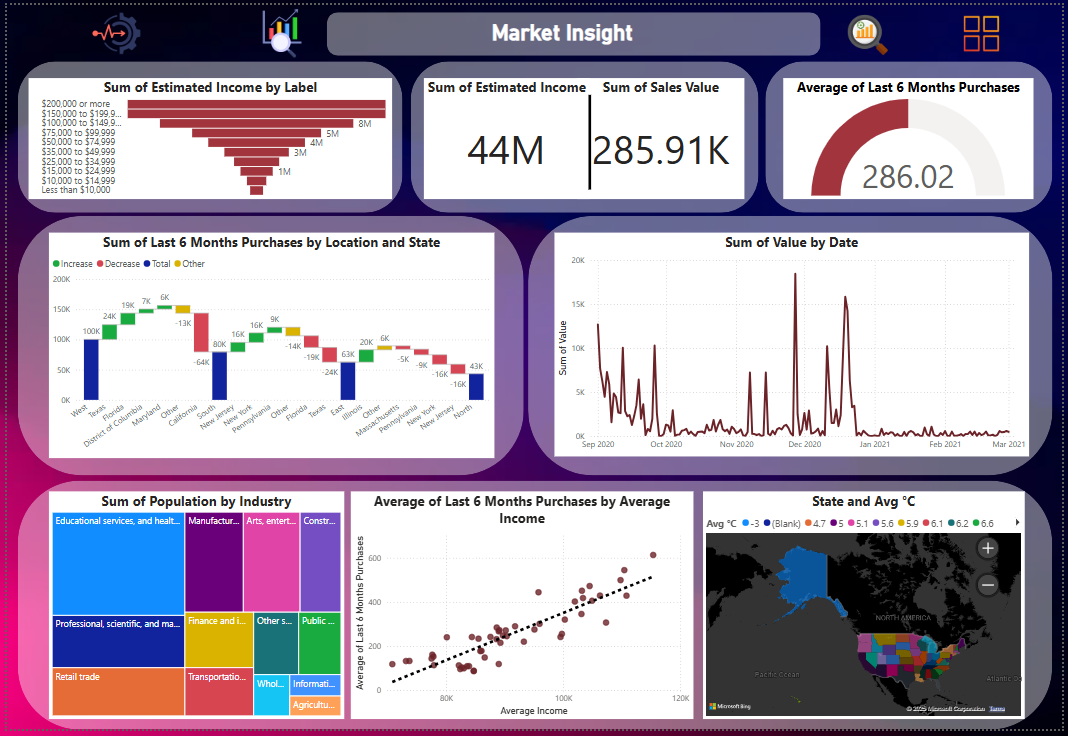

Layout of this report page (visuals, bound fields, positions):
{"tool":"powerbi","page":{"name":"Market Insight","canvas":[1600,1100],"ordinal":0},"visuals":[{"type":"shape","box":[16,722,1570,378],"z":0},{"type":"shape","box":[790,320,796,394],"z":1000},{"type":"shape","box":[486,10,750,66],"z":2000},{"type":"shape","box":[16,320,768,394],"z":3000},{"type":"shape","box":[16,86,584,230],"z":4000},{"type":"shape","box":[612,86,528,230],"z":5000},{"type":"shape","box":[1150,86,436,230],"z":6000},{"type":"card","title":"Sum of Sales Value","fields":{"Values":["Sum(Purchase List.Value)"]},"box":[866,110,254,184],"z":7000},{"type":"waterfallChart","fields":{"Y":["Sum(Customer List.Last 6 Months Purchases)"],"Category":["Customer List.Location"],"Breakdown":["Customer List.State"]},"box":[64,346,676,342],"z":8000},{"type":"treemap","fields":{"Group":["Industries.Industry"],"Values":["Sum(Industries.Population)"]},"box":[64,738,448,346],"z":9000},{"type":"filledMap","fields":{"Category":["State_List.State"],"Series":["State_List.Avg °C"]},"box":[1056,738,488,346],"z":10000},{"type":"card","title":"Sum of Estimated Income","fields":{"Values":["Sum(Incomes by State.Estimated Income)"]},"box":[632,110,252,184],"z":11000},{"type":"lineChart","fields":{"Category":["Purchase List.Date"],"Y":["Sum(Purchase List.Value)"]},"box":[830,346,720,340],"z":12000},{"type":"scatterChart","fields":{"X":["Avg Income by State.Average Income"],"Y":["Avg(Customer List.Last 6 Months Purchases)"]},"box":[522,738,520,346],"z":13000},{"type":"gauge","fields":{"Y":["Avg(Customer List.Last 6 Months Purchases)"]},"box":[1178,110,380,184],"z":14000},{"type":"textbox","title":"Market Insight","box":[545.5,21.8,594.5,43.6],"z":15000},{"type":"funnel","fields":{"Category":["Incomes by State.Label"],"Y":["Sum(Incomes by State.Estimated Income)"]},"box":[32,110,552,184],"z":16000},{"type":"image","box":[1266,2,82,86],"z":17000},{"type":"image","box":[374,0,86,86],"z":18000},{"type":"image","box":[116,0,100,86],"z":19000},{"type":"shape","box":[792,136,184,144],"z":20000},{"type":"image","box":[1448,6,64,76],"z":21000}]}

Visuals, with their boxes in screenshot pixels (x1, y1, x2, y2), scaled from the page's 1600x1100 canvas onto the 1068x736 screenshot:
shape: locate(11, 483, 1059, 735)
shape: locate(527, 214, 1059, 478)
shape: locate(324, 7, 825, 51)
shape: locate(11, 214, 523, 478)
shape: locate(11, 58, 400, 211)
shape: locate(409, 58, 761, 211)
shape: locate(768, 58, 1059, 211)
"Sum of Sales Value" card: locate(578, 74, 748, 197)
waterfallChart - Sum(Customer List.Last 6 Months Purchases) x Customer List.Location: locate(43, 232, 494, 460)
treemap - Industries.Industry x Sum(Industries.Population): locate(43, 494, 342, 725)
filledMap - State_List.State x State_List.Avg °C: locate(705, 494, 1031, 725)
"Sum of Estimated Income" card: locate(422, 74, 590, 197)
lineChart - Purchase List.Date x Sum(Purchase List.Value): locate(554, 232, 1035, 459)
scatterChart - Avg Income by State.Average Income x Avg(Customer List.Last 6 Months Purchases): locate(348, 494, 696, 725)
gauge - Avg(Customer List.Last 6 Months Purchases): locate(786, 74, 1040, 197)
"Market Insight" textbox: locate(364, 15, 761, 44)
funnel - Incomes by State.Label x Sum(Incomes by State.Estimated Income): locate(21, 74, 390, 197)
image: locate(845, 1, 900, 59)
image: locate(250, 0, 307, 58)
image: locate(77, 0, 144, 58)
shape: locate(529, 91, 651, 187)
image: locate(967, 4, 1009, 55)
